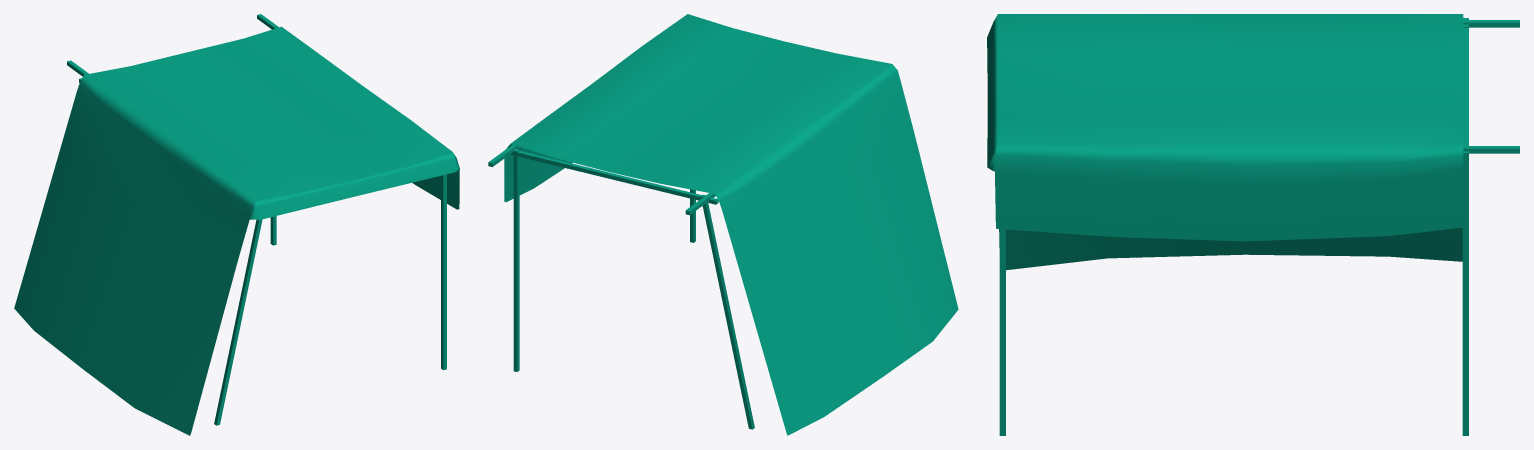
File: Camping_Tent_01_Lod0.fbx
3 views of the same model, side by side, from view 1: azimuth 30°, elevation 25°; view 2: azimuth 150°, elevation 25°; view 3: azimuth 270°, elevation 25° (orthographic). The views are drawn at different scales.
Visible parts, largest first — view 1: Camping_Tent_01_Lod0; view 2: Camping_Tent_01_Lod0; view 3: Camping_Tent_01_Lod0.
Boxes of the visible parts, bbox=[...] form: Camping_Tent_01_Lod0: bbox=[14, 14, 459, 435]; Camping_Tent_01_Lod0: bbox=[488, 14, 958, 435]; Camping_Tent_01_Lod0: bbox=[987, 14, 1519, 435].
Size of the model in its own units: 297 by 221 by 356.
